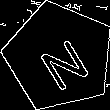N_NW: (29, 25, 90, 89)
